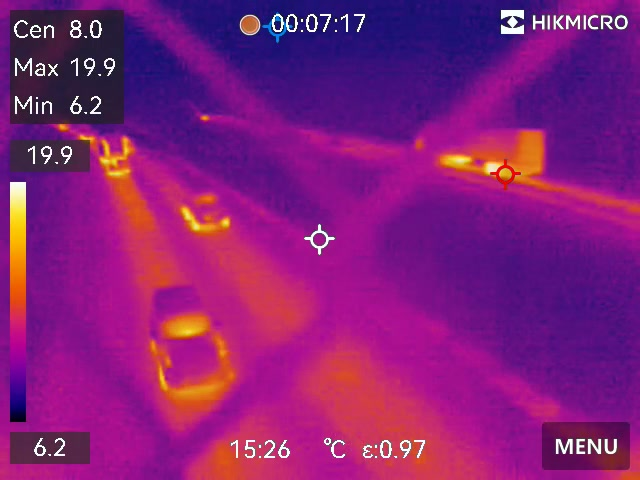heavyTruck: (415, 122, 547, 179)
vehicle: (143, 289, 237, 390), (178, 188, 235, 233)
